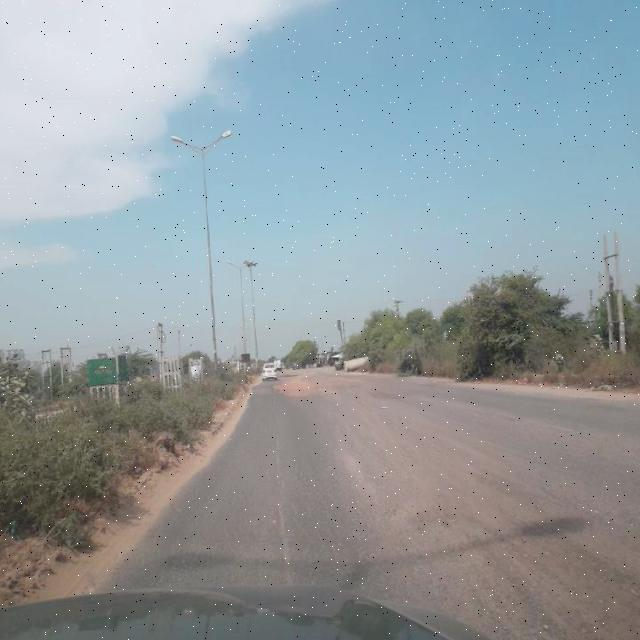D00: (266, 404, 305, 577)
